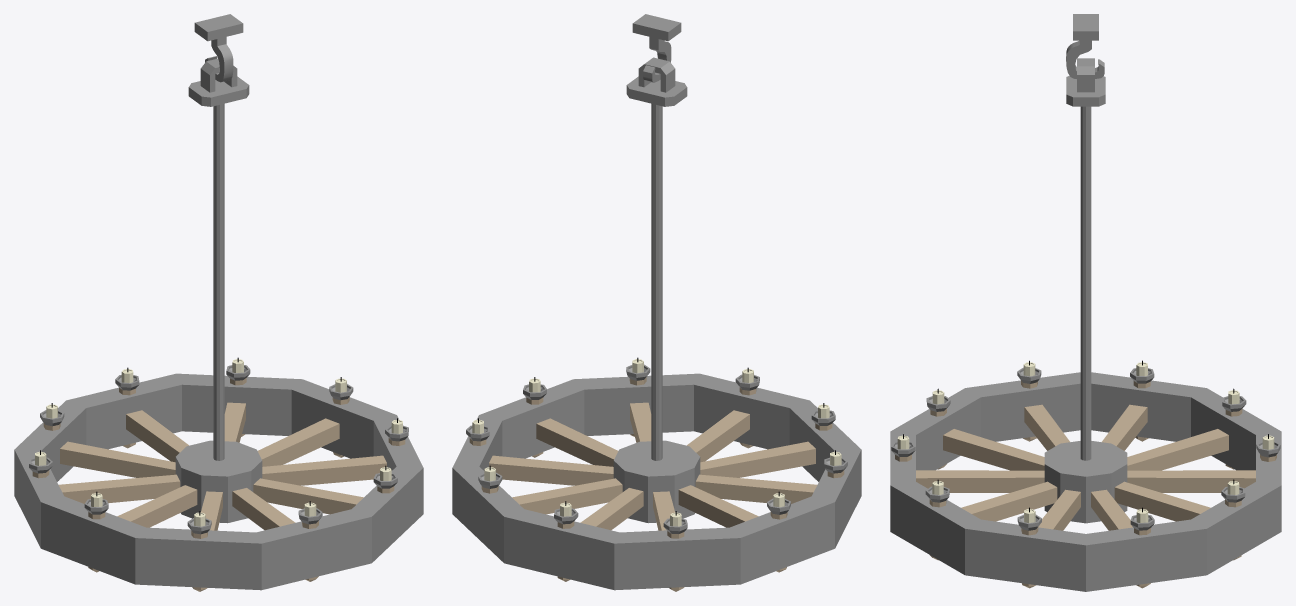
Rendered from żydrandol.fbx.
3 views of the same model, side by side, from view 1: azimuth 30°, elevation 25°; view 2: azimuth 150°, elevation 25°; view 3: azimuth 270°, elevation 25° (orthographic).
Visible parts, largest first — view 1: Cube_Cylinder_Cylinder_0; view 2: Cube_Cylinder_Cylinder_0; view 3: Cube_Cylinder_Cylinder_0.
Boxes of the visible parts, x1,y1,x2,y2 form: Cube_Cylinder_Cylinder_0: (14, 14, 423, 591); Cube_Cylinder_Cylinder_0: (452, 14, 861, 591); Cube_Cylinder_Cylinder_0: (890, 14, 1281, 591).
Bounding box in the file's own units: 40 × 52.81 × 38.04.
